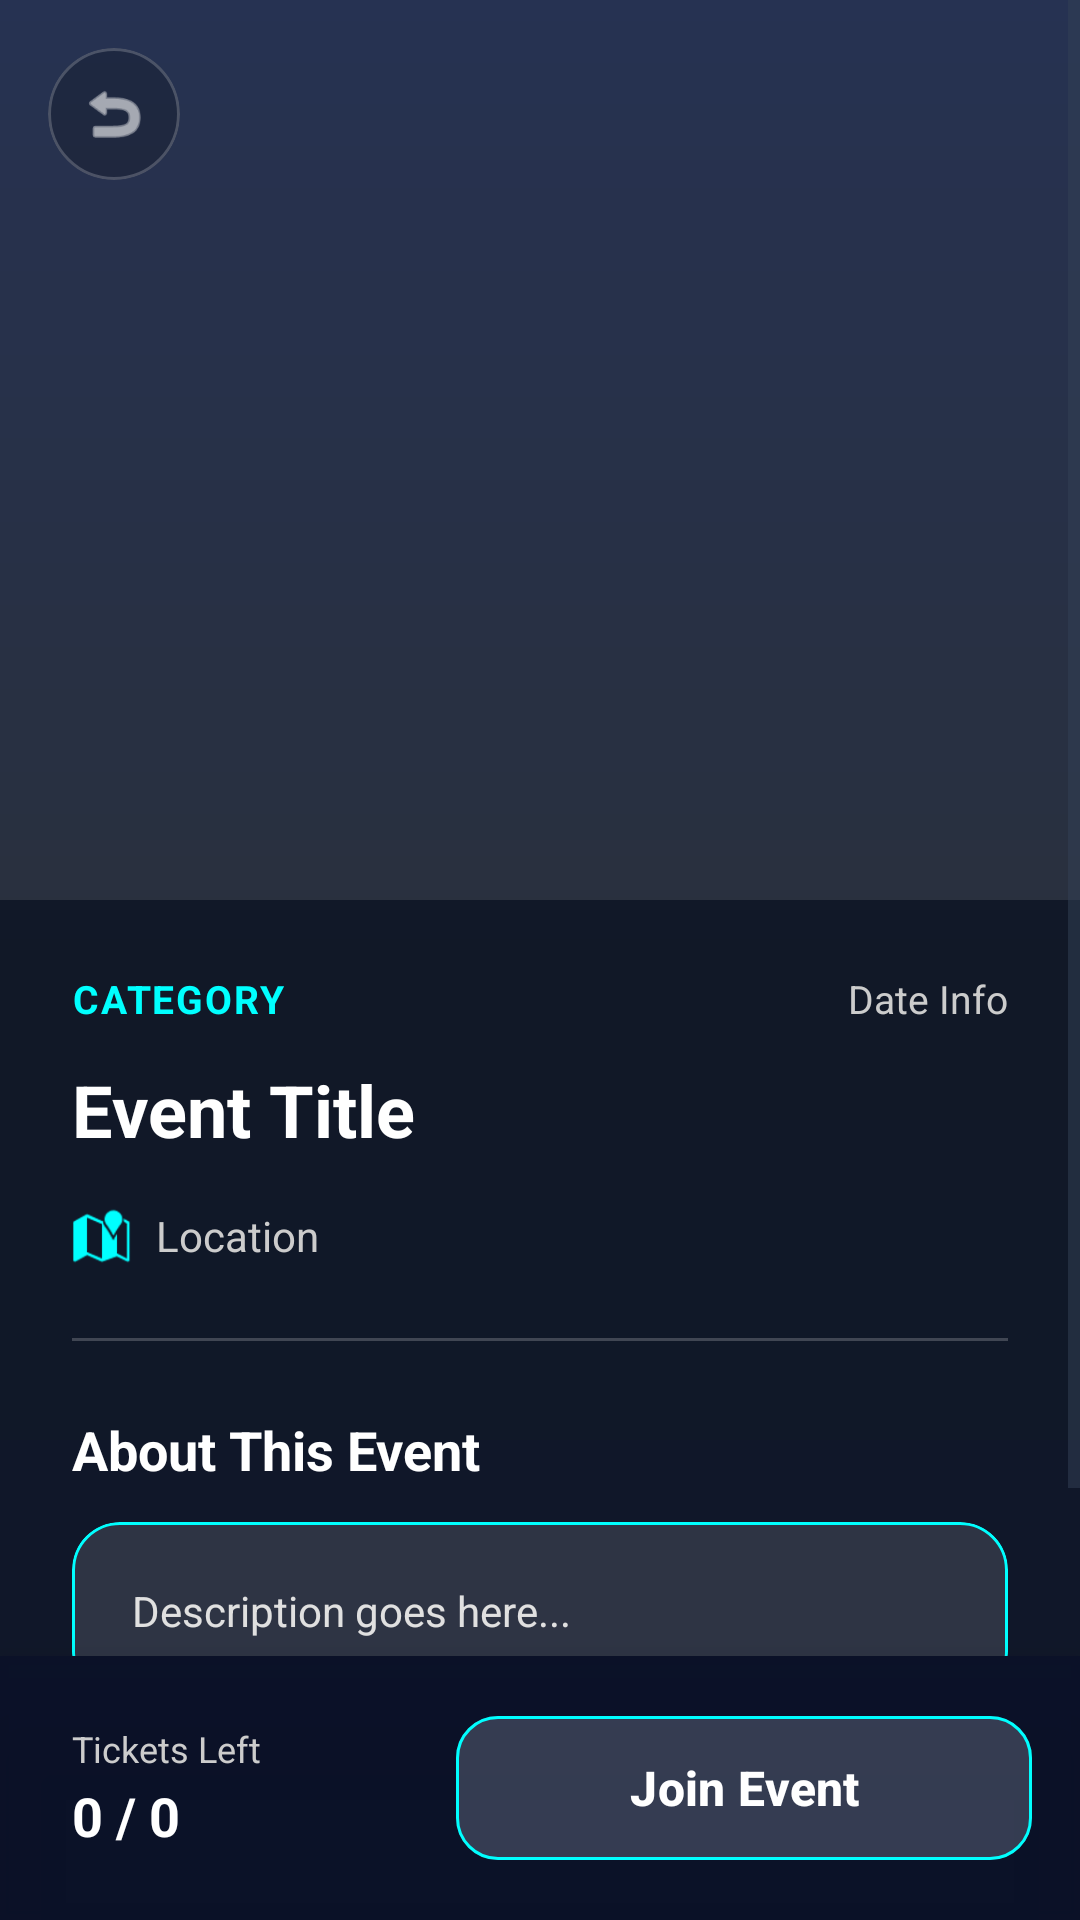

Icons on this 1080*1920 Android screen, each with its box as (x1, y1, x2, y2):
map: (73, 1209, 130, 1262)
revert: (48, 48, 180, 180)
